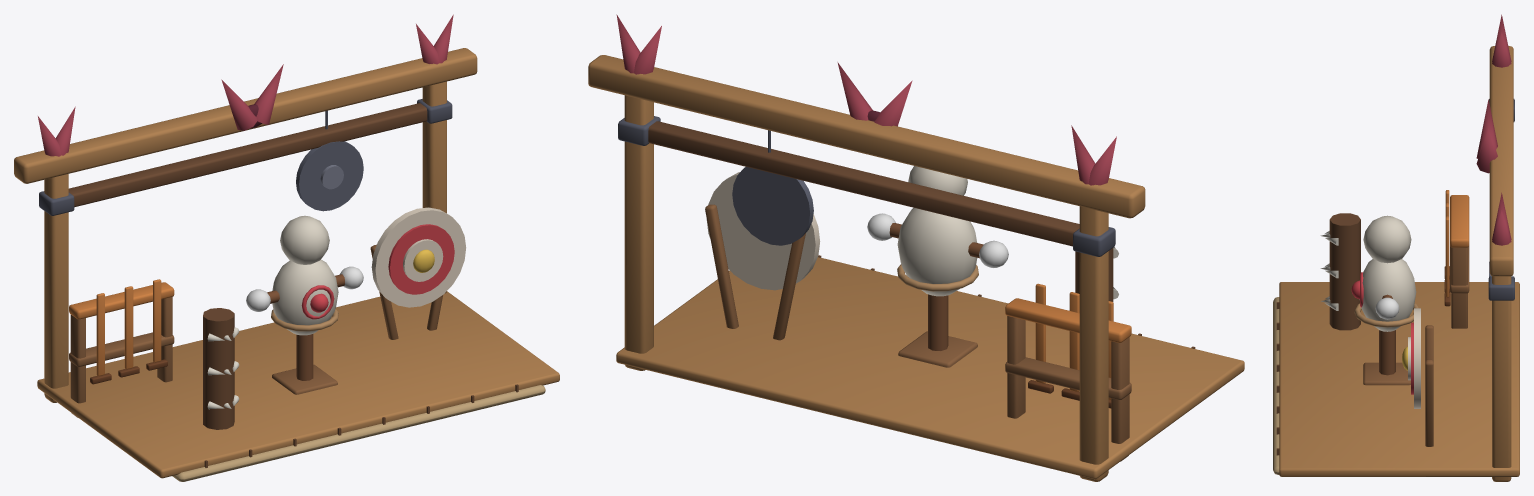
Rendered from training3.glb.
3 views of the same model, side by side, from view 1: azimuth 30°, elevation 25°; view 2: azimuth 150°, elevation 25°; view 3: azimuth 270°, elevation 25° (orthographic). The views are drawn at different scales.
Visible parts, largest first — view 1: pine-deck, base, iron-gong, imp-horns; view 2: pine-deck, base, iron-gong, imp-horns; view 3: pine-deck, base, imp-horns, iron-gong.
Part boxes in pixels (left/top/right/bottom): pine-deck: left=14, top=48, right=559, bottom=478; base: left=69, top=207, right=545, bottom=481; iron-gong: left=39, top=99, right=452, bottom=215; imp-horns: left=38, top=14, right=453, bottom=156; pine-deck: left=588, top=55, right=1244, bottom=481; base: left=705, top=166, right=1131, bottom=461; iron-gong: left=618, top=116, right=1115, bottom=256; imp-horns: left=616, top=14, right=1116, bottom=185; pine-deck: left=1276, top=46, right=1519, bottom=481; base: left=1273, top=190, right=1469, bottom=474; imp-horns: left=1476, top=14, right=1511, bottom=245; iron-gong: left=1488, top=99, right=1514, bottom=300.
Size of the model in its own units: 4.2 by 2.55 by 2.05.
